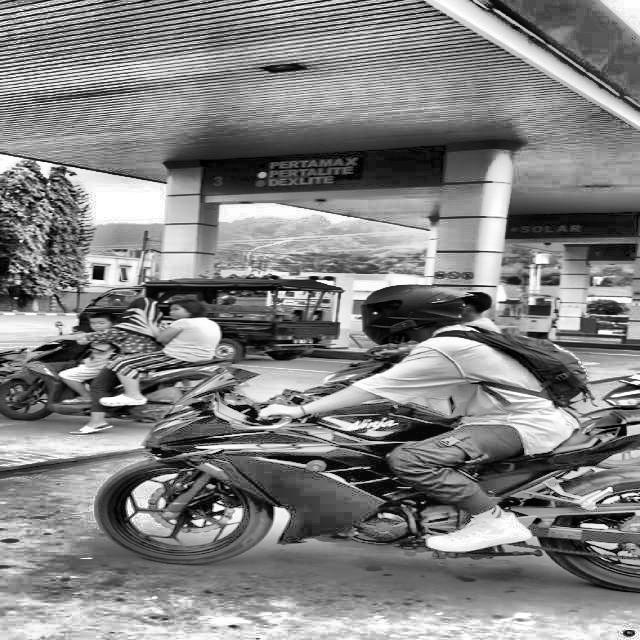Helmet: (356, 280, 478, 348)
